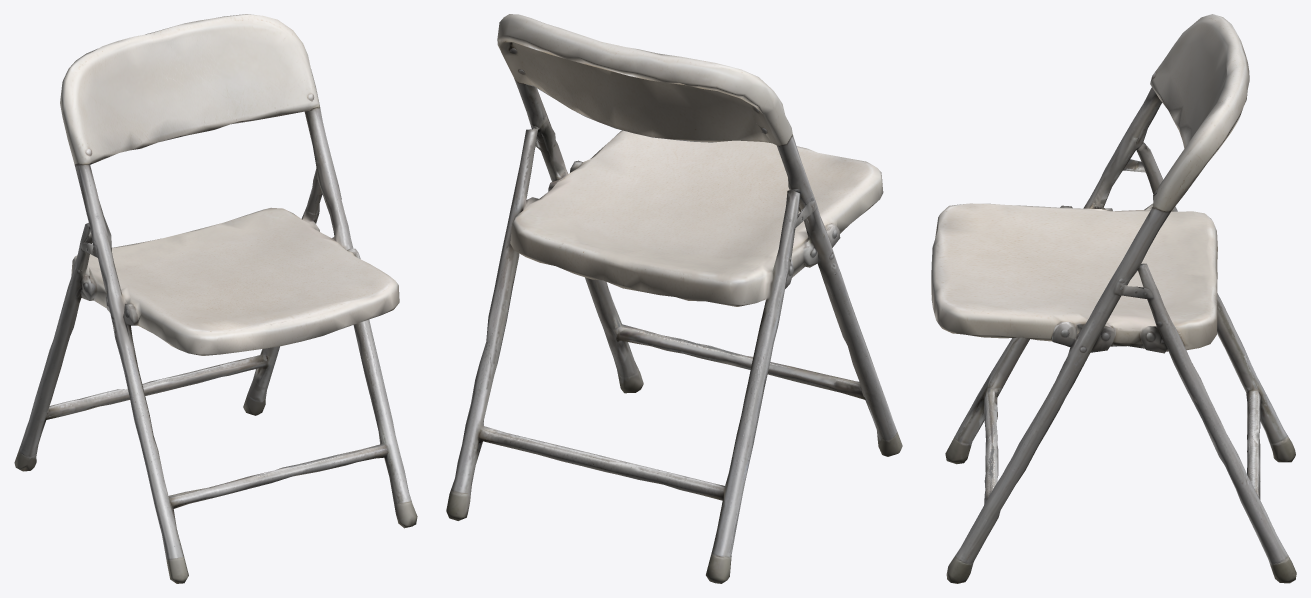
File: VAR_PoolHall_FoldingChair.fbx
The picture shows the model from 3 angles, left to right: view 1: azimuth 30°, elevation 25°; view 2: azimuth 150°, elevation 25°; view 3: azimuth 270°, elevation 25°; orthographic projection. The views are drawn at different scales.
Parts seen in each view (by area): view 1: texture_mapping; view 2: texture_mapping; view 3: texture_mapping.
Part boxes in pixels (left/top/right/bottom): texture_mapping: left=14, top=14, right=417, bottom=583; texture_mapping: left=446, top=14, right=902, bottom=583; texture_mapping: left=931, top=14, right=1296, bottom=583.
Size of the model in its own units: 0.6047 by 0.7233 by 1.
Materials: 1 (1 with a texture image).
